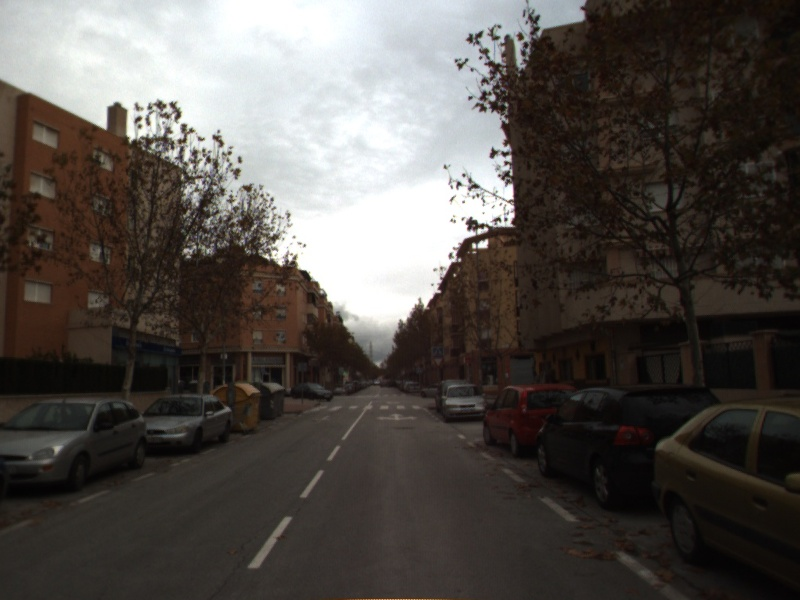STRAIGHT_LEFT_RIGHT: (374, 411, 420, 423)
